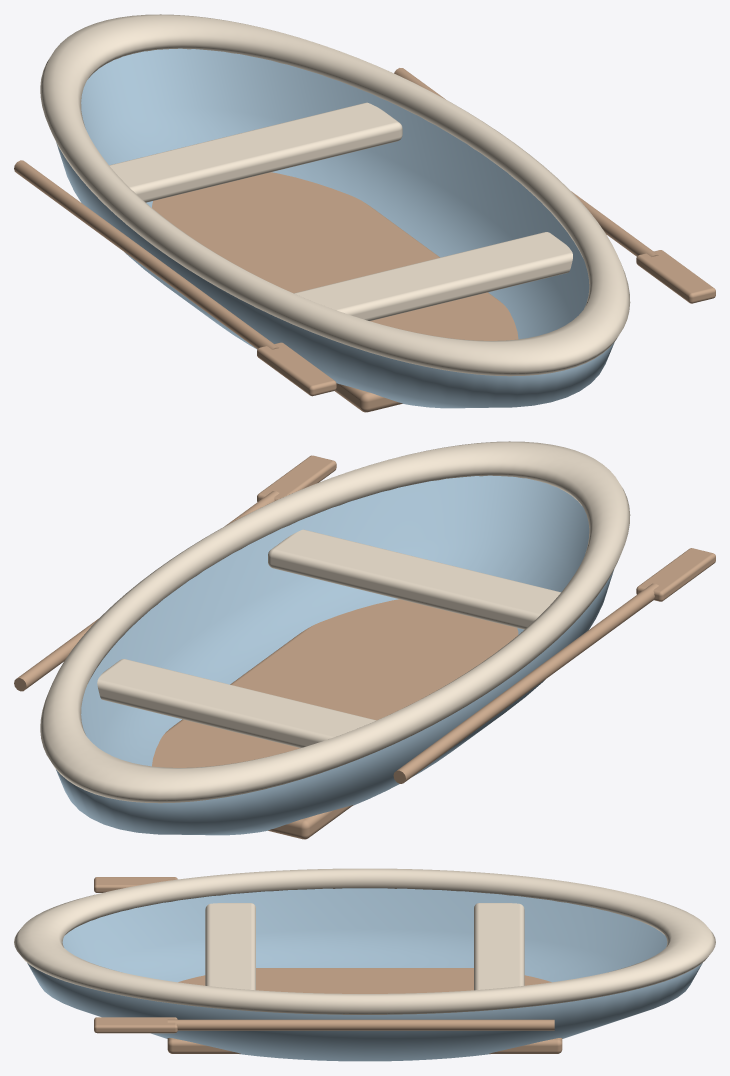
The model's file is boatBlue.glb.
3 views of the same model, one above another, from view 1: azimuth 30°, elevation 25°; view 2: azimuth 150°, elevation 25°; view 3: azimuth 270°, elevation 25° (orthographic). The views are drawn at different scales.
Parts seen in each view (by area): view 1: hollow hull, rounded rim, recessed cockpit floor, seat bench (×2), oar shaft (×2), oar blade (×2); view 2: hollow hull, rounded rim, recessed cockpit floor, seat bench (×2), oar shaft (×2), oar blade (×2); view 3: hollow hull, rounded rim, seat bench (×2), recessed cockpit floor, oar shaft, oar blade (×2).
Boxes of the visible parts, x1,y1,x2,y2 form: hollow hull: (56,48,614,408); rounded rim: (40,14,630,376); recessed cockpit floor: (152,172,518,412); seat bench (×2): (109,102,572,320); oar shaft (×2): (14,68,658,349); oar blade (×2): (257,250,715,396); hollow hull: (56,475,613,835); rounded rim: (40,441,630,803); recessed cockpit floor: (152,599,518,839); seat bench (×2): (97,529,560,747); oar shaft (×2): (14,491,658,783); oar blade (×2): (257,455,715,601); hollow hull: (27,888,702,1061); rounded rim: (14,868,715,1014); seat bench (×2): (205,903,524,990); recessed cockpit floor: (167,968,562,1053); oar shaft: (167,1019,554,1030); oar blade (×2): (94,877,177,1033).
Size of the model in its own units: 2.25 by 0.7466 by 4.44.
